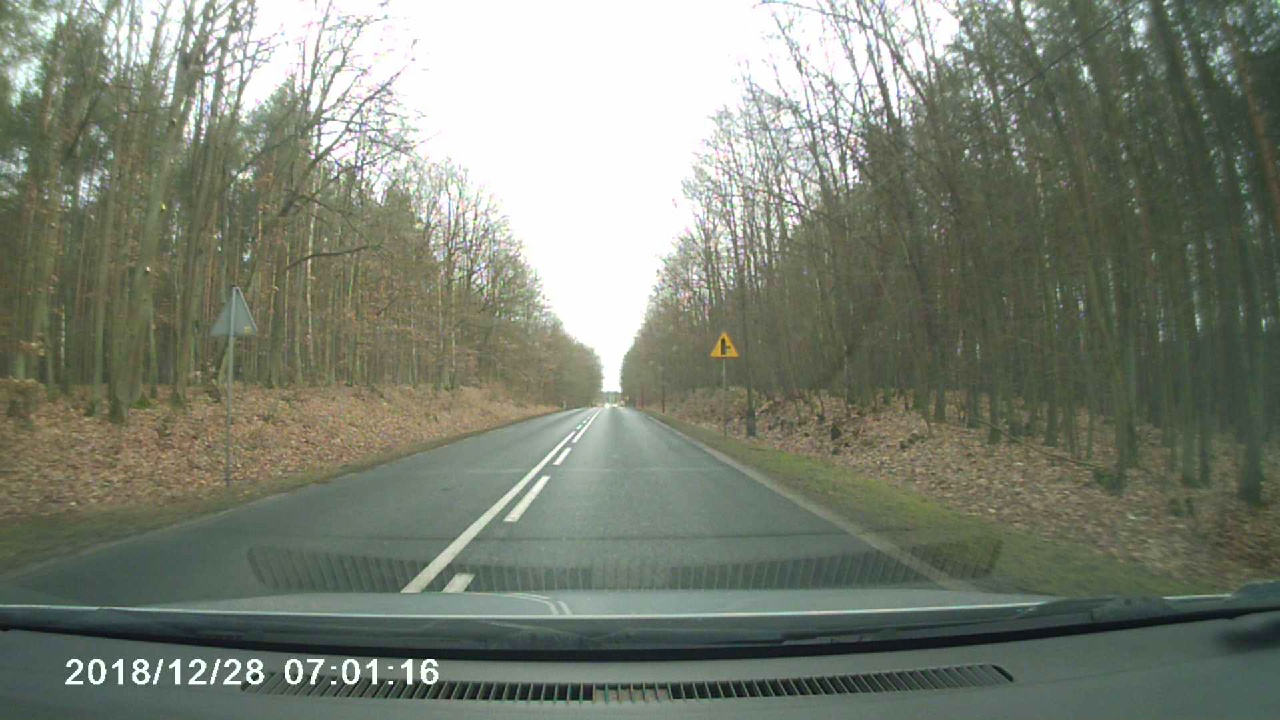A6b: (706, 329, 745, 362)
